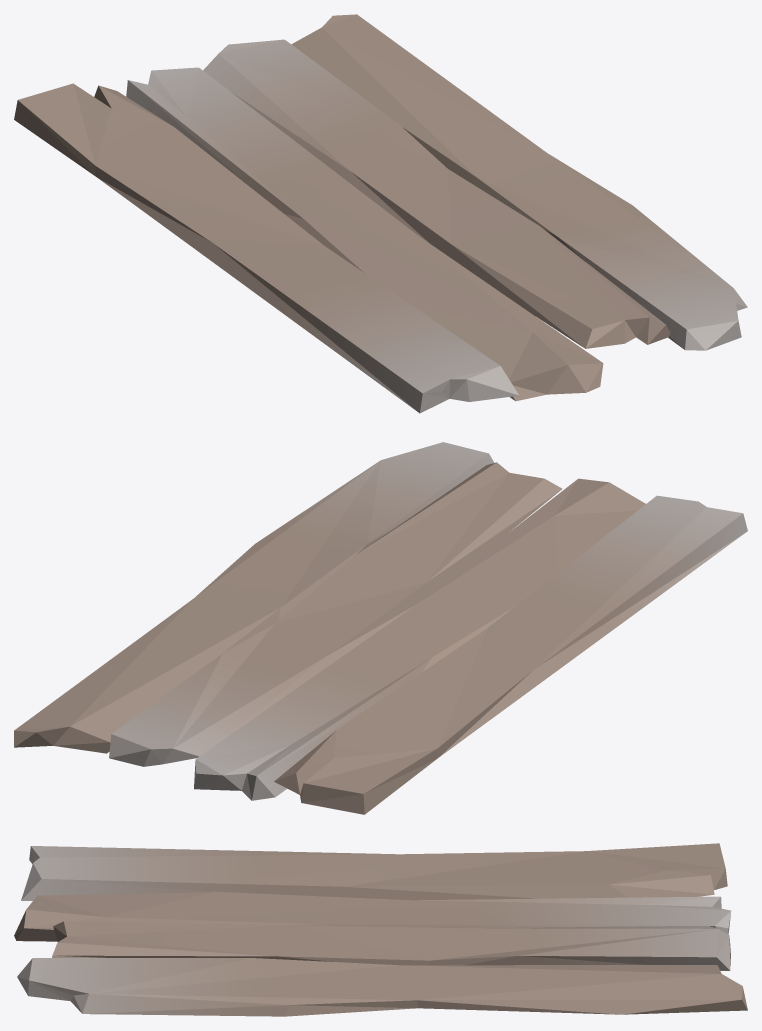
The model's file is Terrain_Stage2_Decoration_12.fbx.
3 renders of one model, top to bottom at view 1: azimuth 30°, elevation 25°; view 2: azimuth 150°, elevation 25°; view 3: azimuth 270°, elevation 25°, orthographic. The views are drawn at different scales.
Visible parts, largest first — view 1: terrain_shelf_408_LOD1; view 2: terrain_shelf_408_LOD1; view 3: terrain_shelf_408_LOD1.
Boxes of the visible parts, left/top/right/bottom form: terrain_shelf_408_LOD1: left=14, top=14, right=747, bottom=413; terrain_shelf_408_LOD1: left=14, top=442, right=747, bottom=814; terrain_shelf_408_LOD1: left=14, top=843, right=747, bottom=1016.
Bounding box in the file's own units: 536 × 53.37 × 1071.
1 material, 1 textured.
